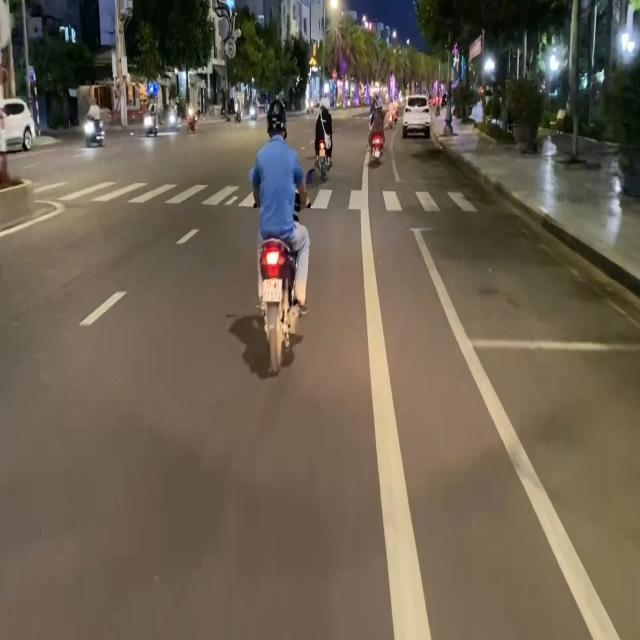walk-crossing: (42, 174, 259, 209), (308, 181, 483, 216)
